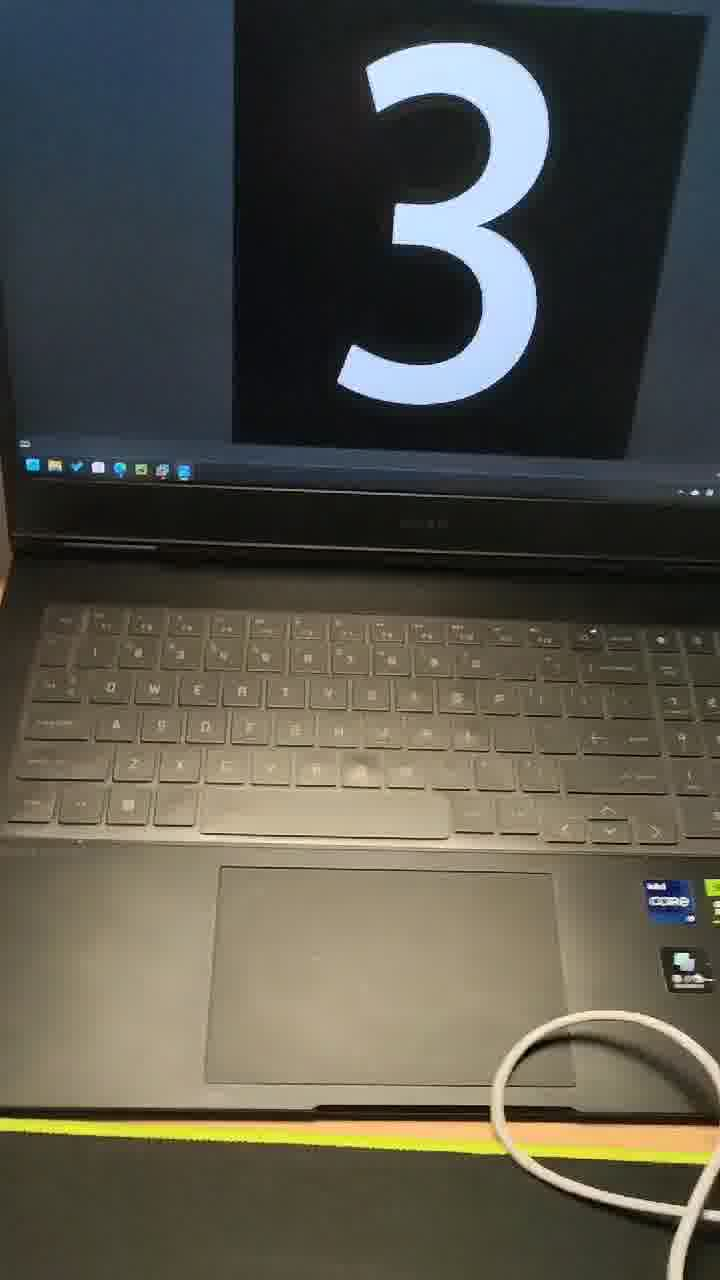three: (302, 20, 583, 449)
